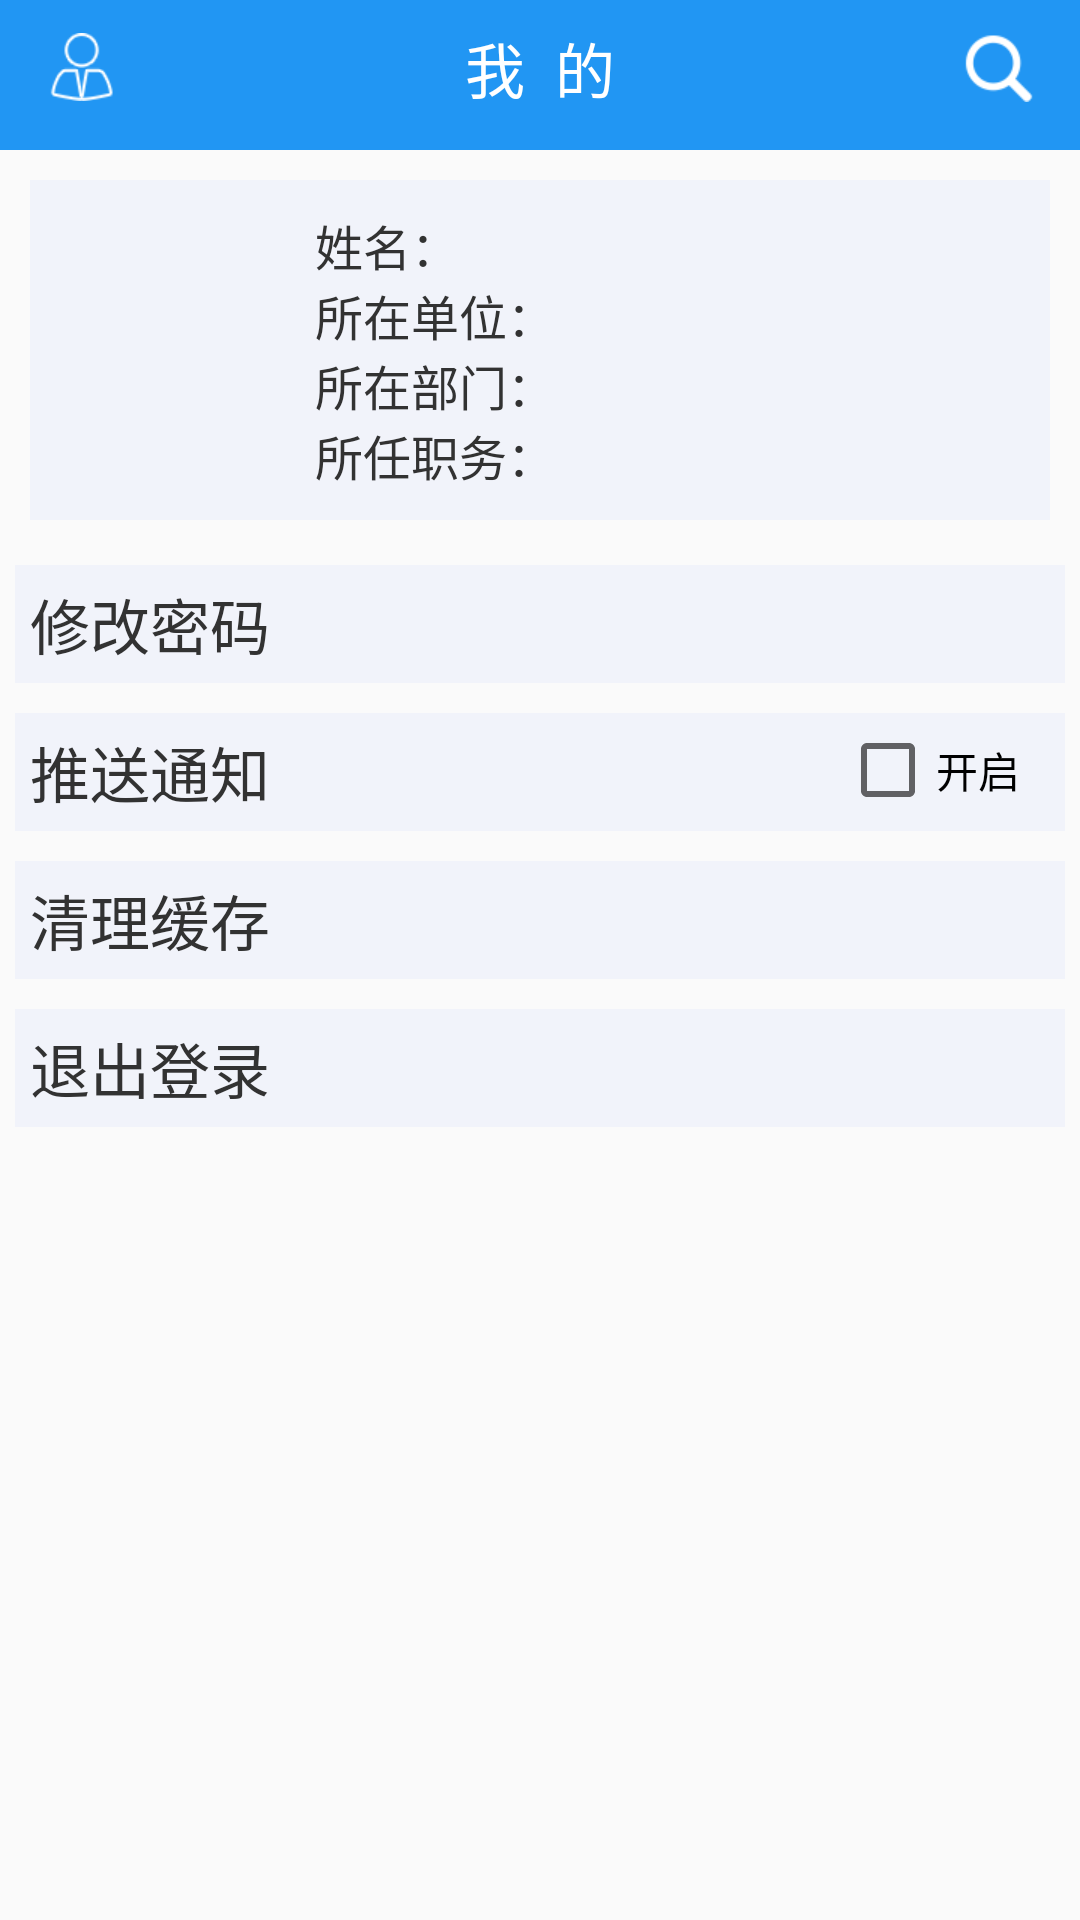

Where to tap for icons on this 1080w x 1920h app screen, as (x=x, y=y):
mine: (x=82, y=67)
search: (x=999, y=68)
